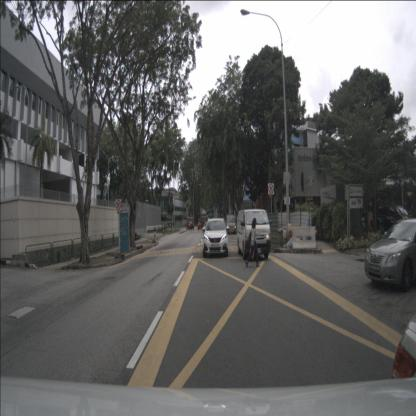human-pedestrian-adult: (245, 218, 260, 267)
movable_object-barrier: (291, 226, 317, 249)
vehicle-car: (364, 218, 416, 293), (237, 209, 271, 259), (372, 205, 414, 235), (203, 218, 228, 258), (225, 214, 236, 235), (186, 221, 194, 231), (198, 221, 204, 230)
